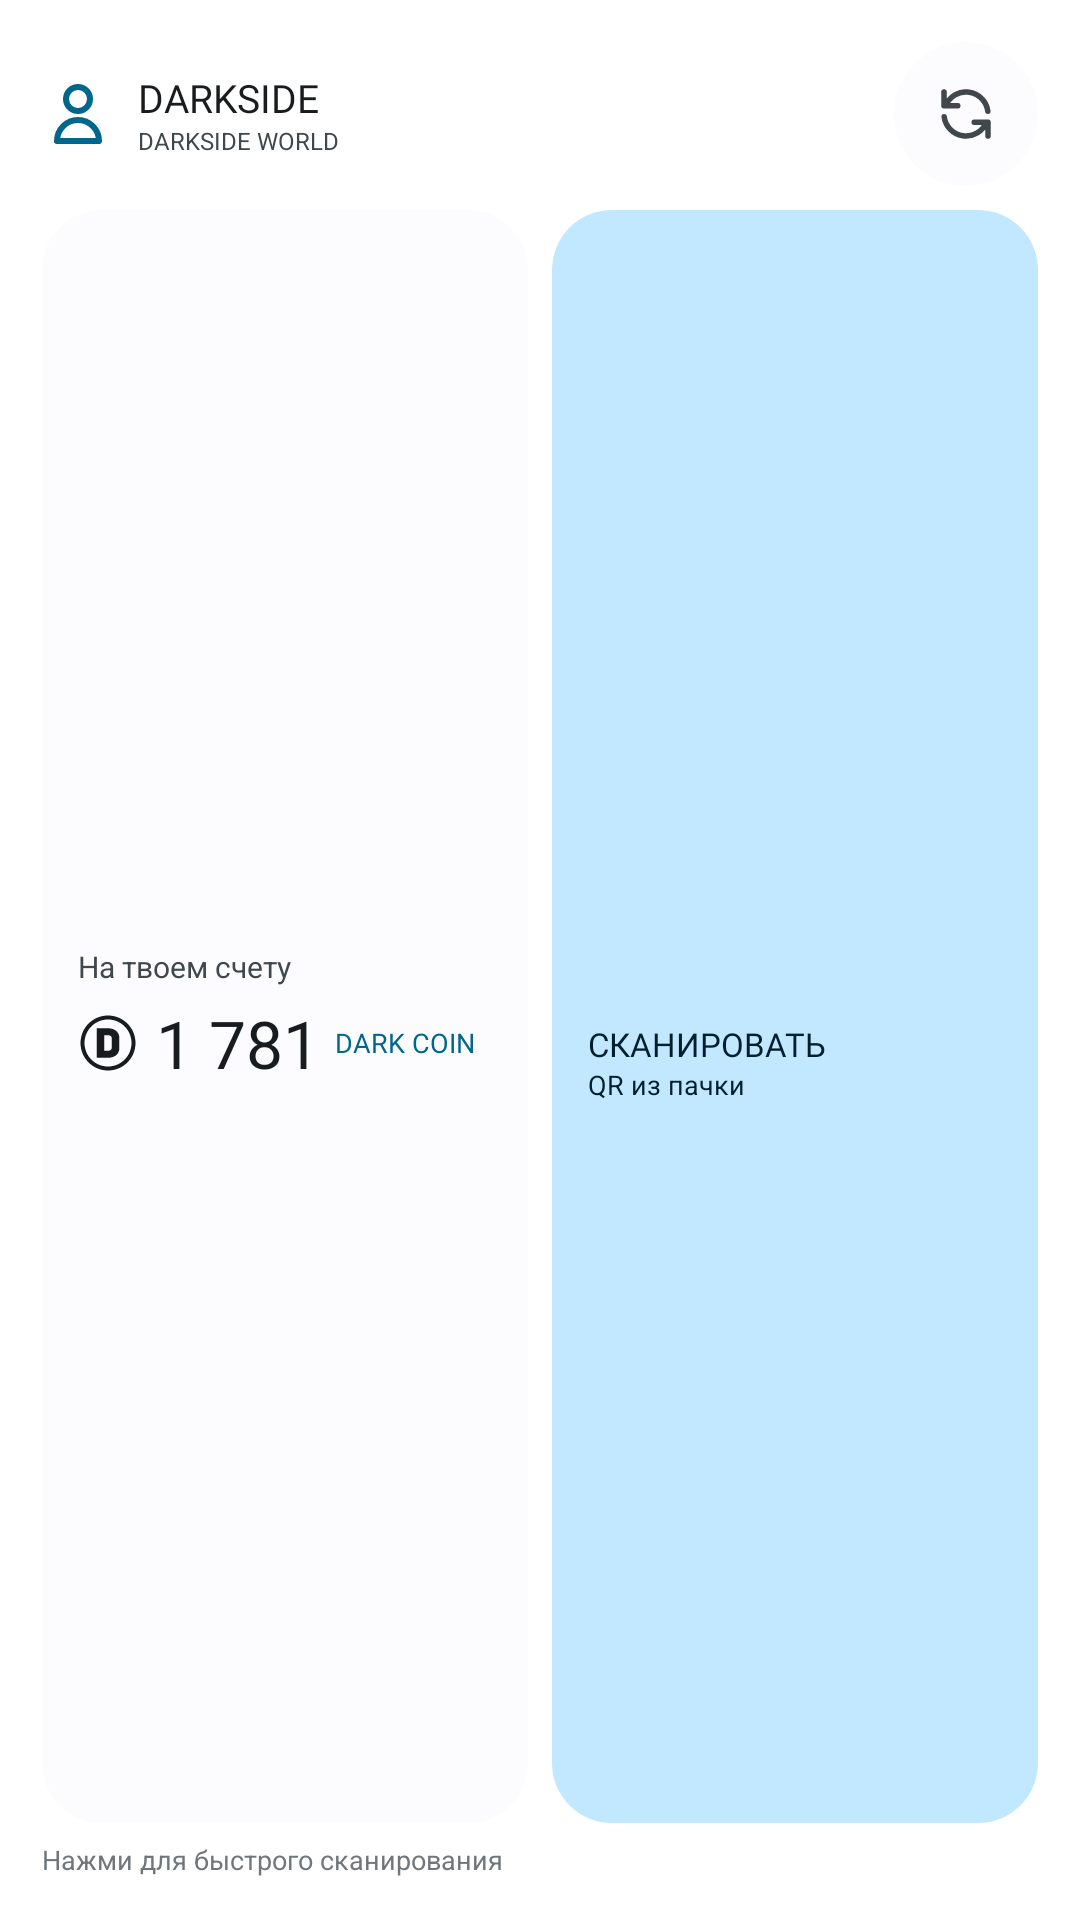

Named icons in this screenshot (1080w x 1920h) and their centers, point (x, y):
coin: point (108, 1043)
user: point (78, 114)
Обновить баланс: point (966, 114)
